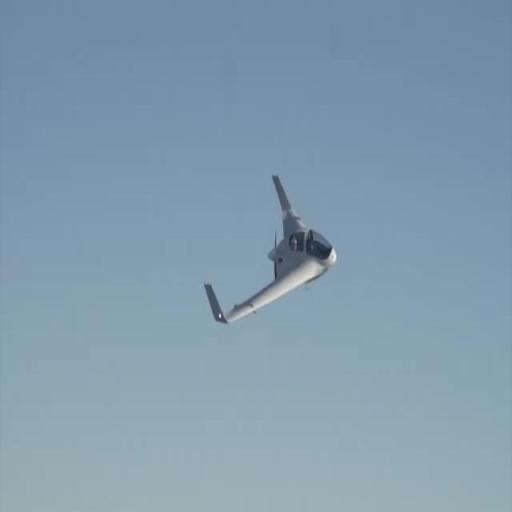uav: (201, 166, 338, 340)
